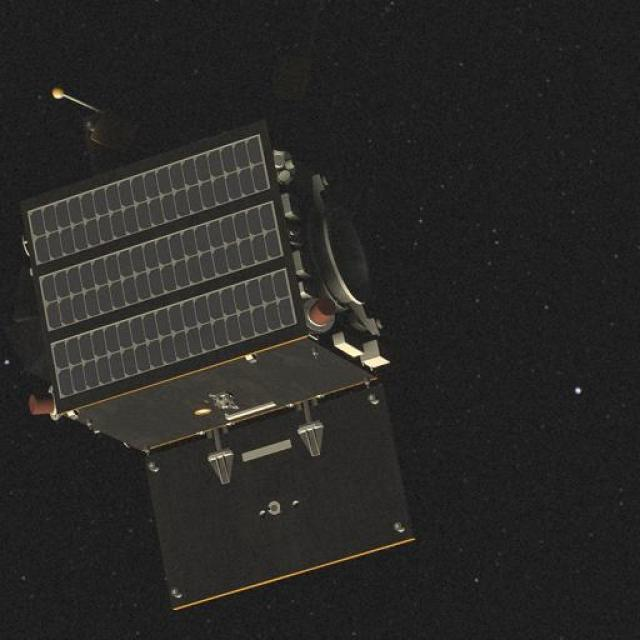proba_2: (34, 74, 421, 622)
